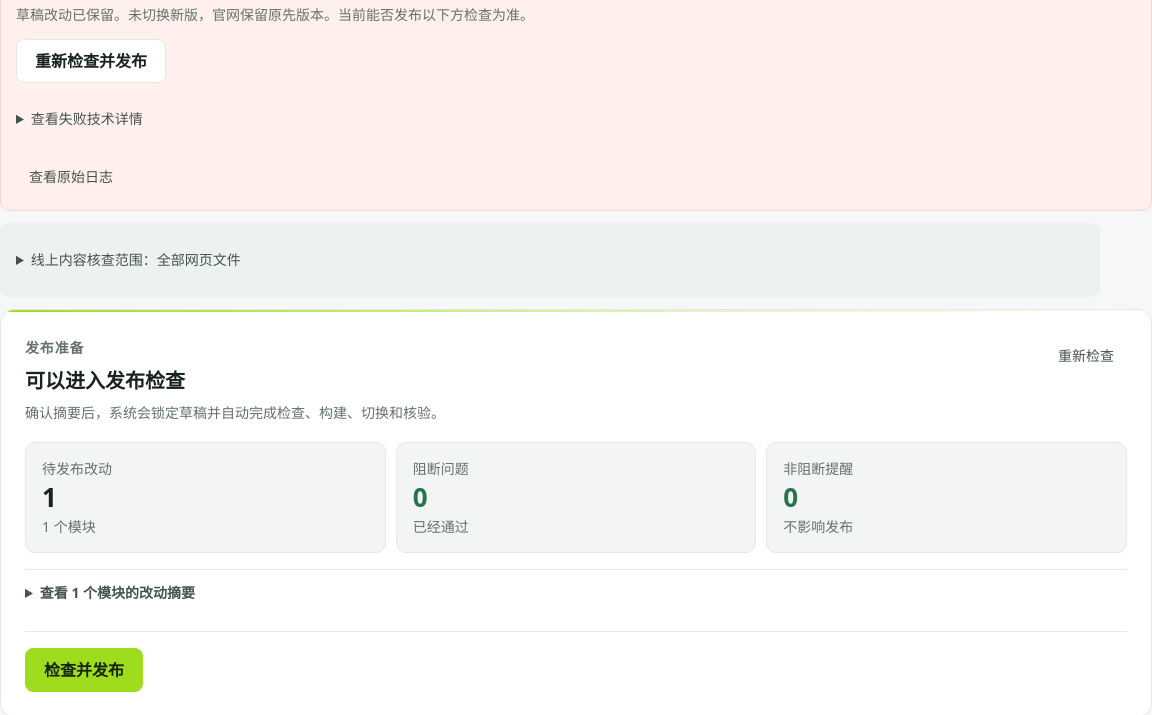
Test: keeps the last valid preflight when refresh receives a partial success body
(page scrolled)
Expected: the heading "查看 1 个模块的改动摘要" is shown, top-left (40, 583), bottom-right (195, 602)
What coordinates should you click on to do the following:
click the button "重新检查"
I would click on:
 (1086, 356)
Its box is top-left (1045, 334), bottom-right (1127, 378).
(page scrolled)
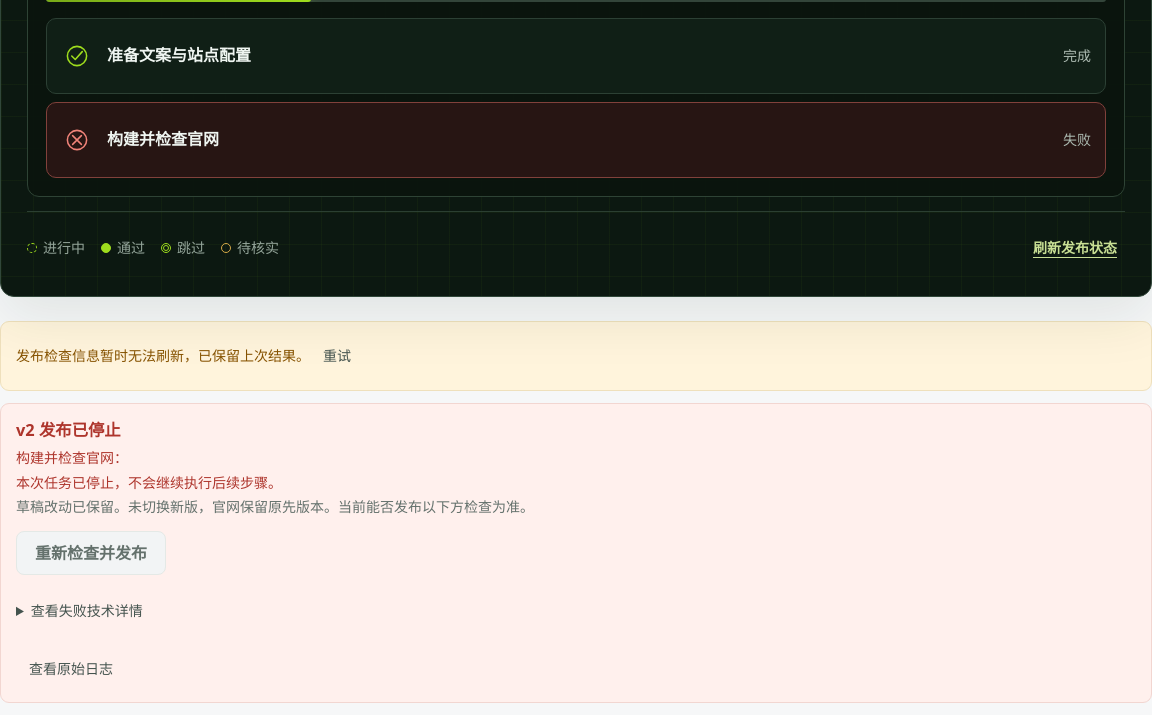
Result: the text "发布检查信息暂时无法刷新，已保留上次结果。 重试" is shown at top-left (0, 320), bottom-right (1151, 390)
What coordinates should you click on to do the following:
click the button "重试"
I would click on:
 (337, 356)
Its box is top-left (310, 334), bottom-right (364, 378).
(page scrolled)
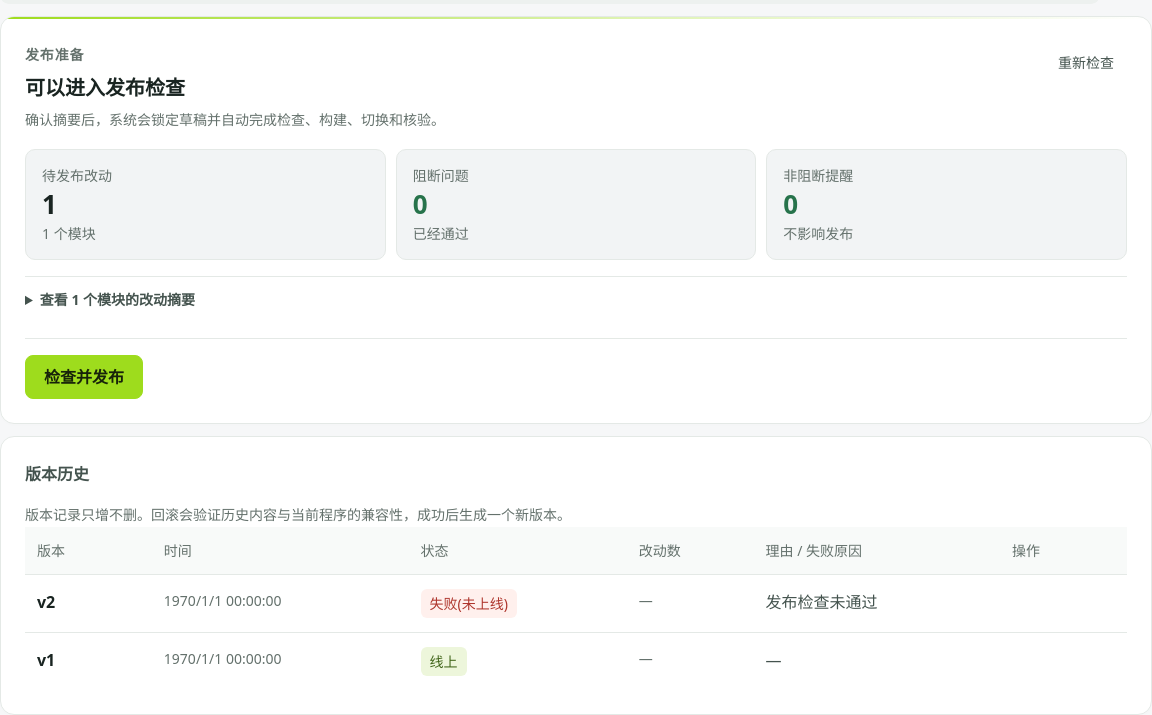
Result: the text "发布检查信息暂时无法刷新" is gone
Result: the button "检查并发布" is enabled at top-left (25, 355), bottom-right (143, 399)
